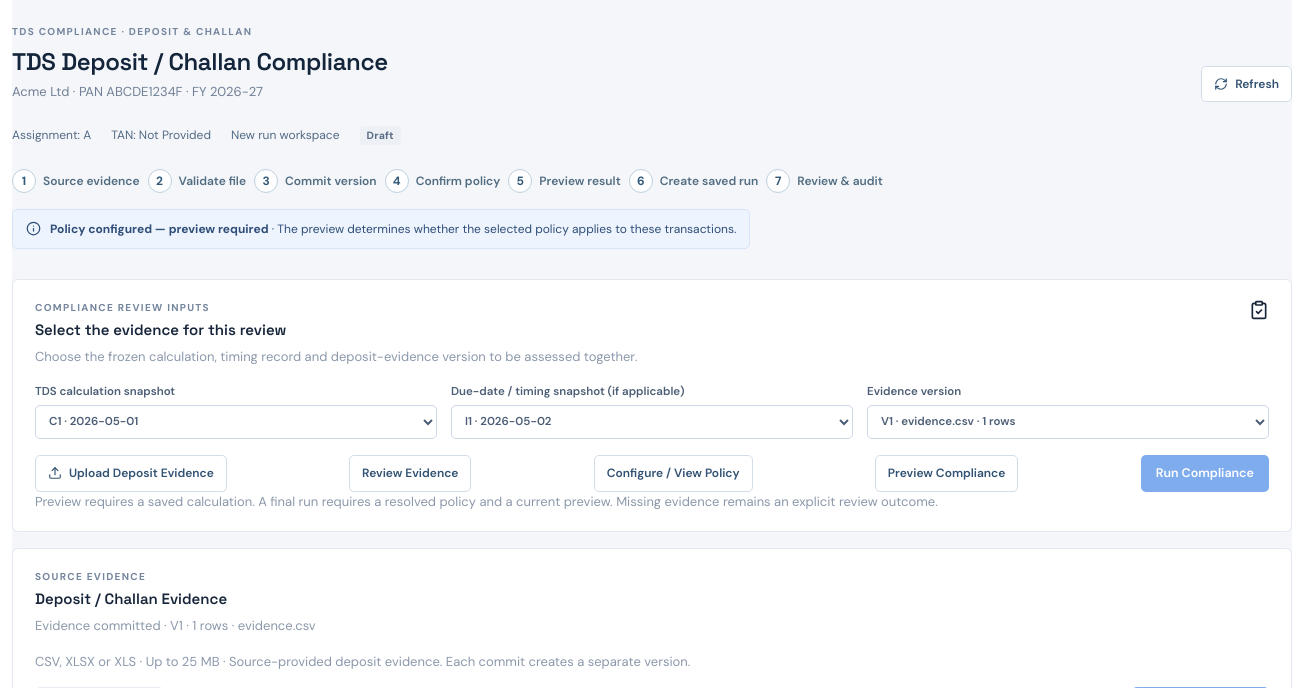
Scenario: input changes invalidate an existing preview and prevent stale run creation
Click the button "Preview Compliance". click: [947, 473]
box: top-left (875, 455), bottom-right (1018, 492)
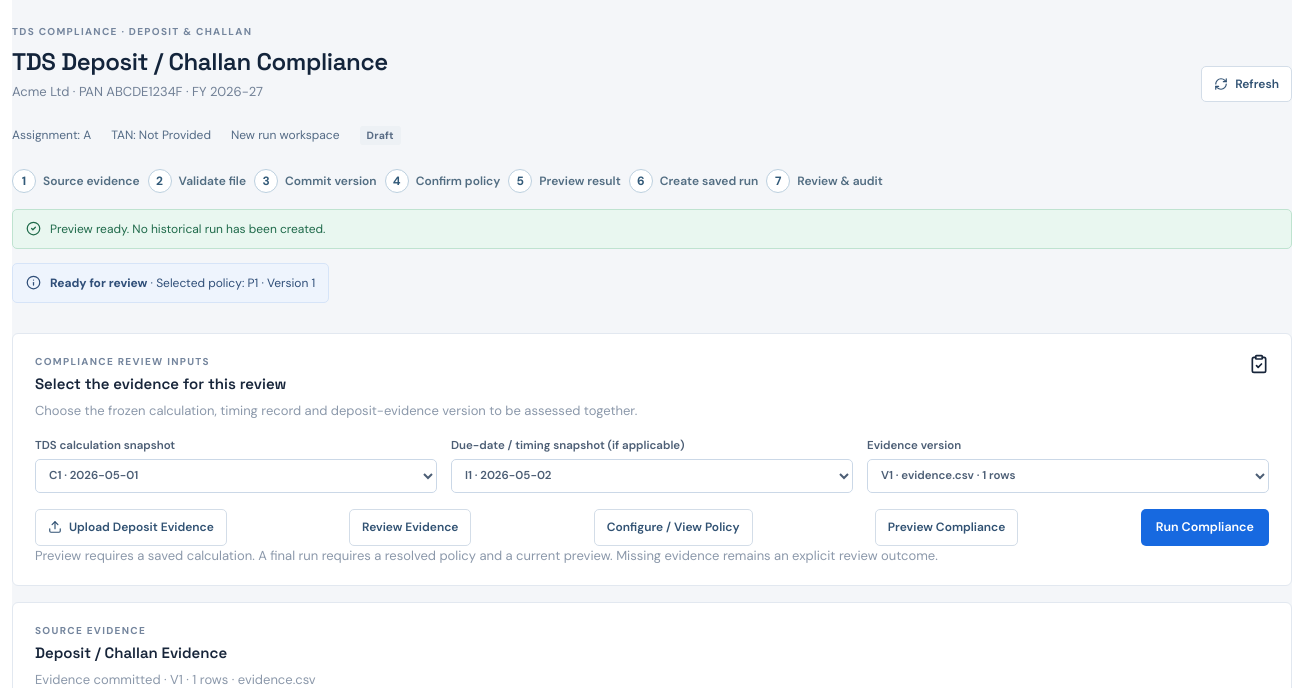
Select "Select a completed calculation" in the dropdown labelled "TDS calculation snapshot". click: [236, 476]
box: top-left (35, 459), bottom-right (437, 493)
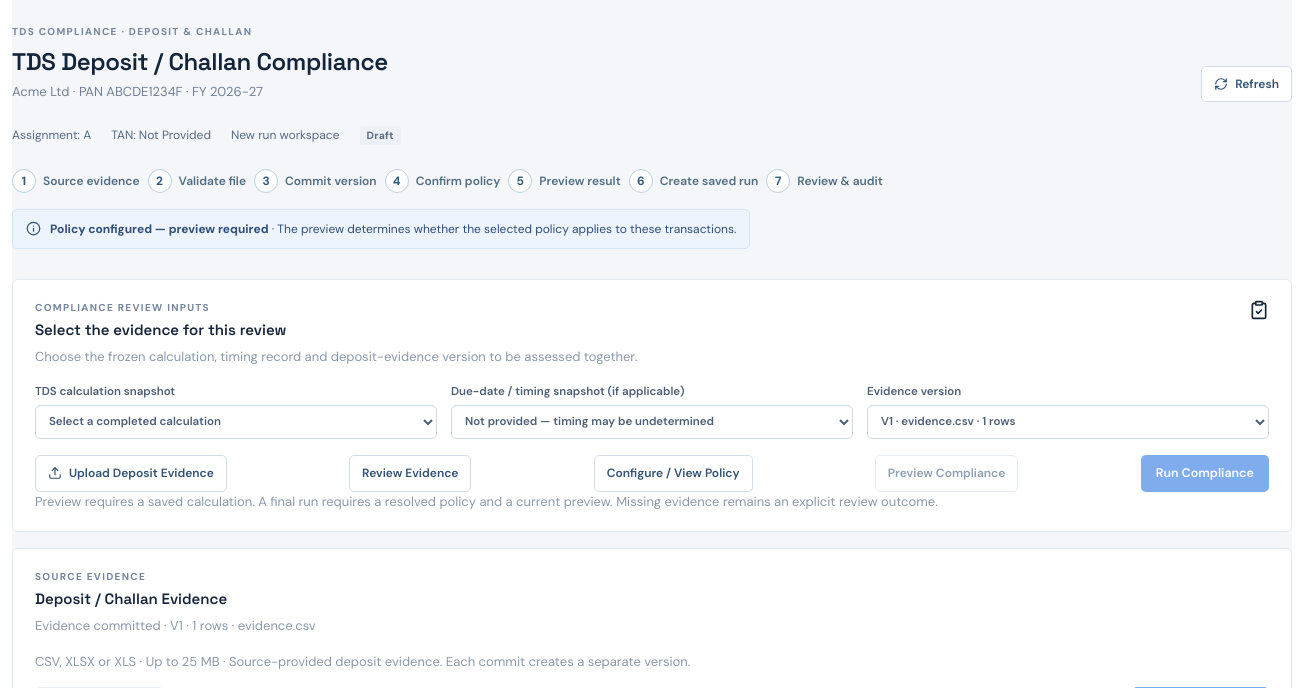
Now the button "Run Compliance" is disabled, box top-left (1141, 455), bottom-right (1269, 492)
